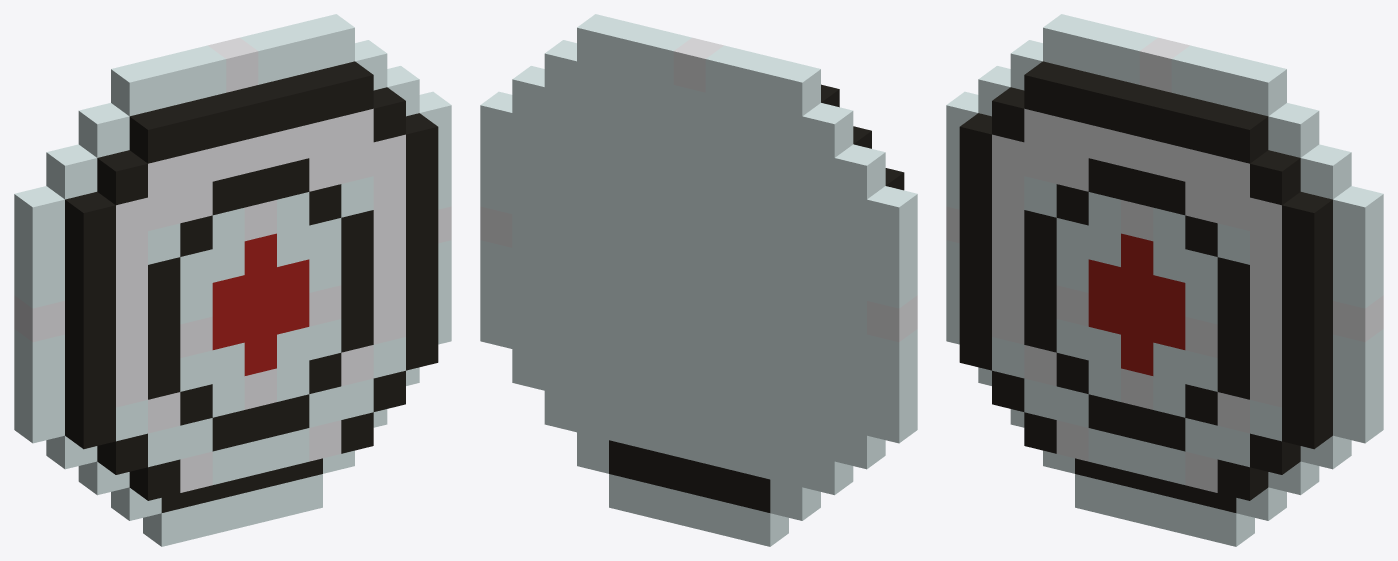
Rendered from Medieval Assets-135-Training - Range Target Target.obj.
3 views of the same model, side by side, from view 1: azimuth 30°, elevation 25°; view 2: azimuth 150°, elevation 25°; view 3: azimuth 330°, elevation 25° (orthographic).
Visible parts, largest first — view 1: Training - Range Target Target; view 2: Training - Range Target Target; view 3: Training - Range Target Target.
Part boxes in pixels (x1,y1,x2,y2): Training - Range Target Target: [14, 14, 451, 546]; Training - Range Target Target: [480, 14, 917, 546]; Training - Range Target Target: [946, 14, 1383, 546].
Size of the model in its own units: 1.3 by 1.4 by 0.2.
Materials: 1 (1 with a texture image).
